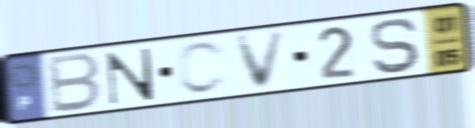2: (316, 24, 358, 81)
B: (47, 50, 104, 116)
C: (175, 39, 230, 97)
N: (104, 45, 157, 107)
S: (368, 15, 426, 76)
V: (232, 27, 291, 93)
